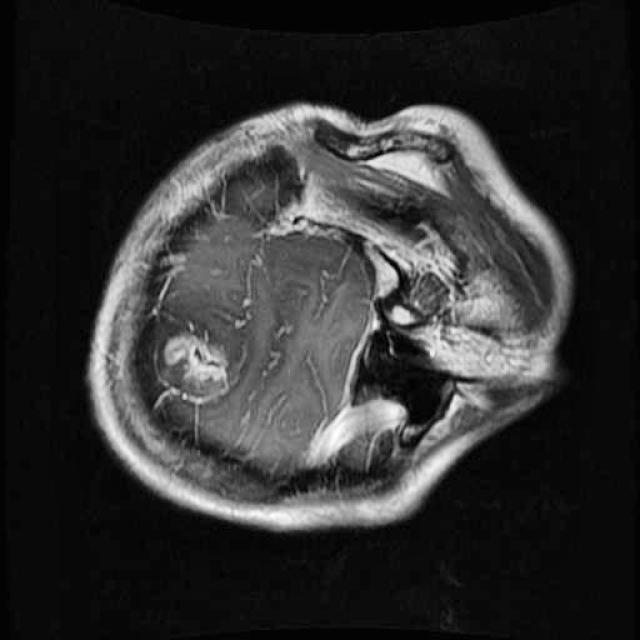Tumor: (134, 308, 256, 427)
